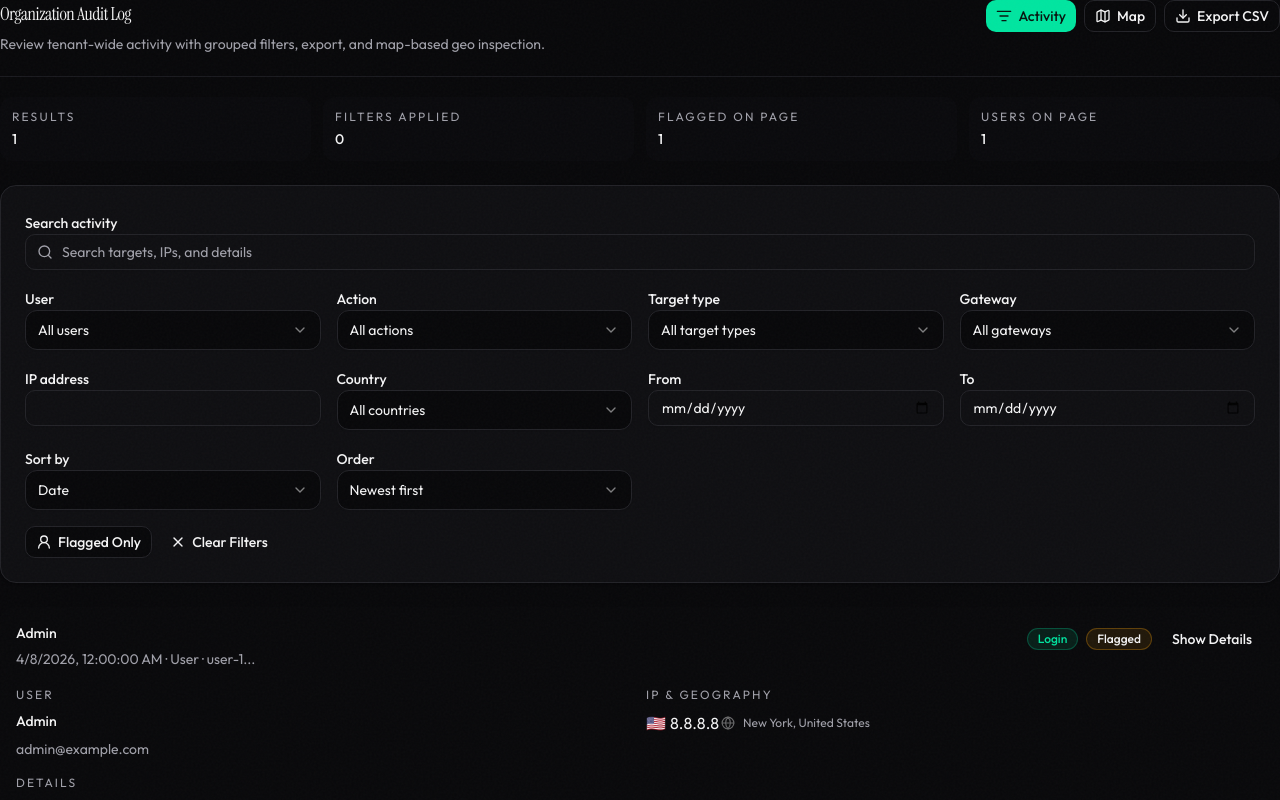
Test case: TenantAuditLogSection › renders grouped filters and card-based activity entries
Check: the heading "Organization Audit Log" is shown, box [0,2,131,26]
Check: the field labelled "Search activity" is shown, box [25,234,1255,270]
Click the button "Show Details" at {"x": 1212, "y": 639}, box [1160,623,1264,655]
(page scrolled)
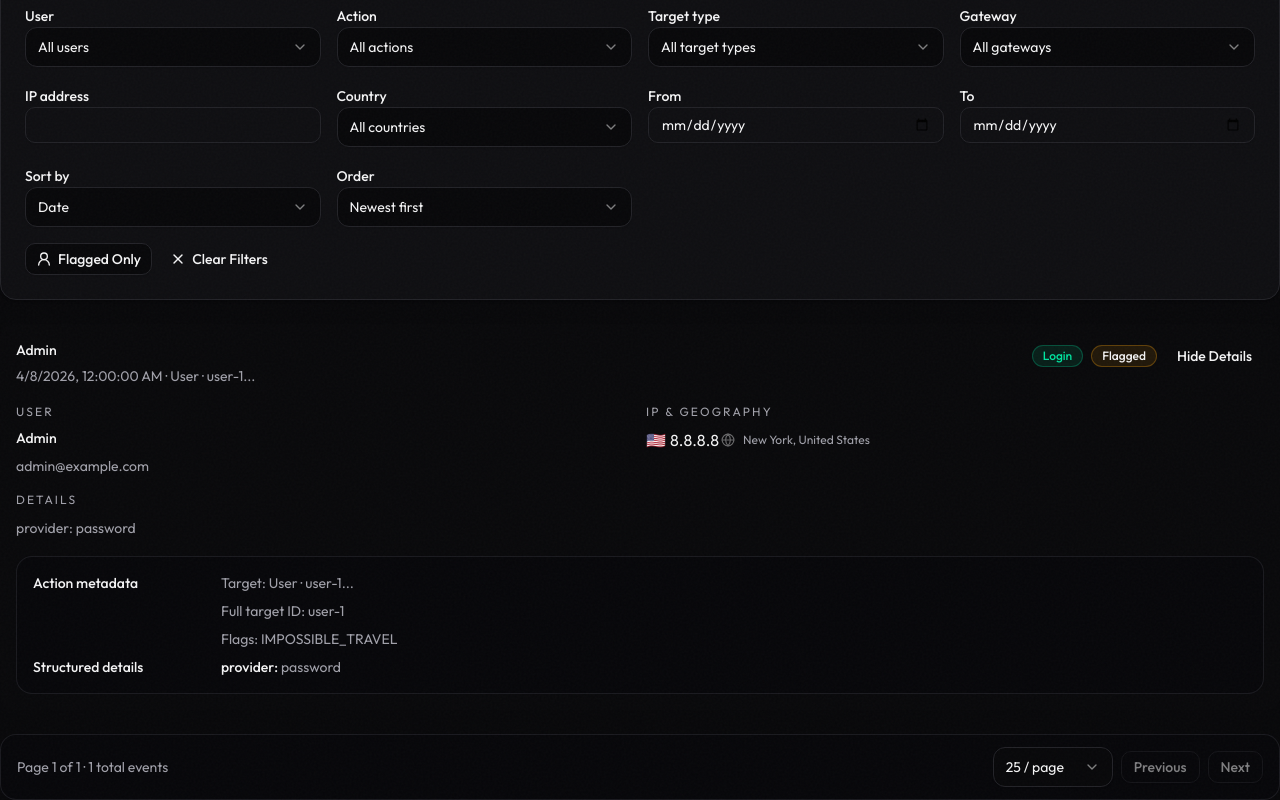
Check: the text "Structured details" is shown, box [33,658,143,676]
